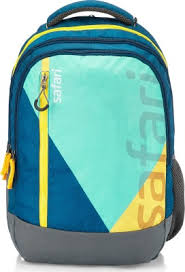backpack: (1, 0, 184, 265)
